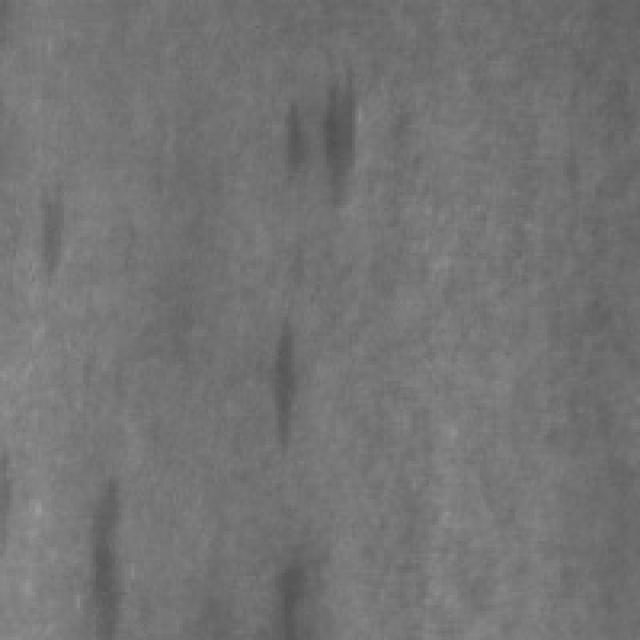inclusion: (266, 54, 362, 205), (74, 467, 124, 634), (253, 310, 307, 454), (23, 170, 70, 291)
